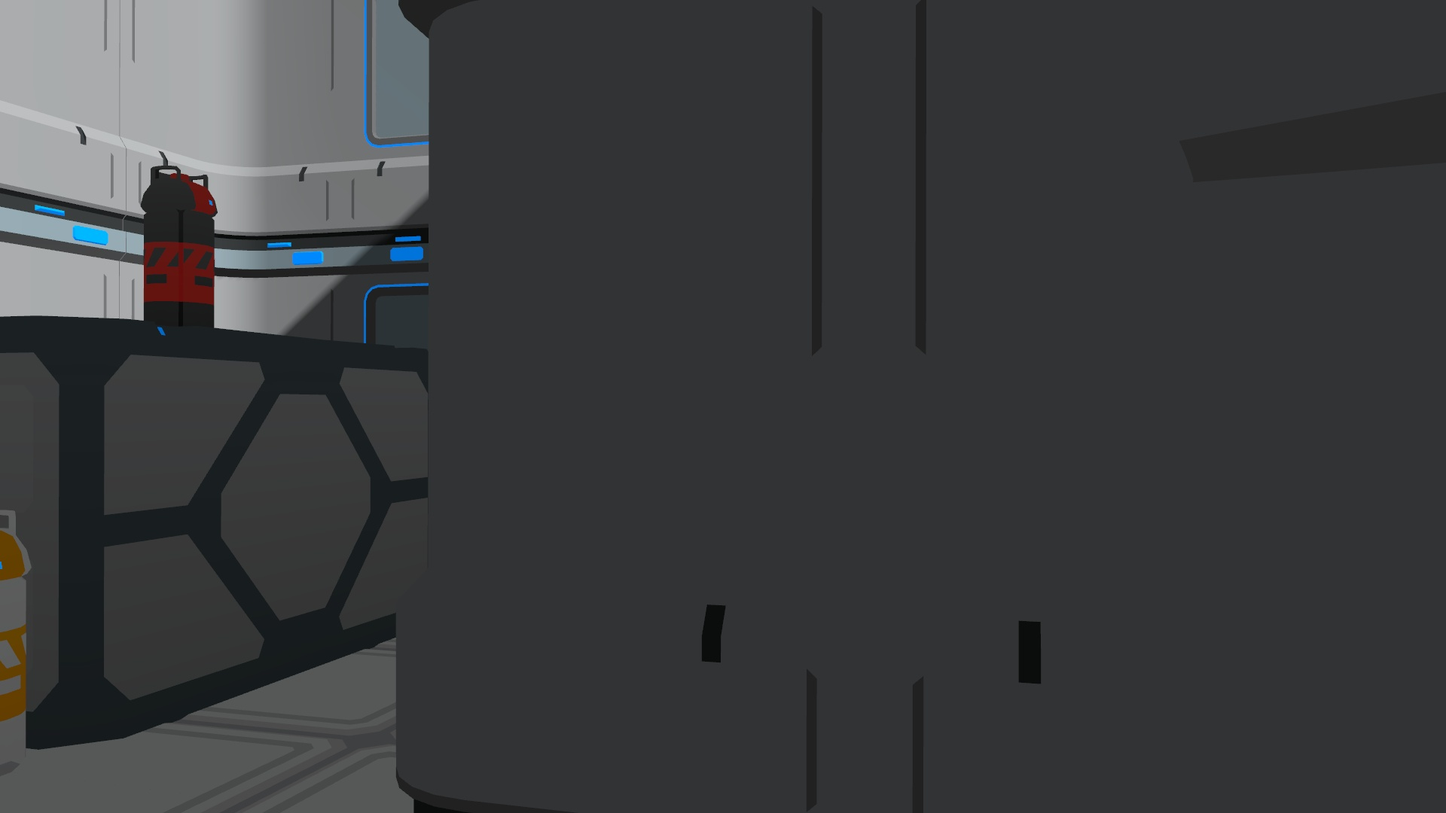red_barrel: (136, 154, 221, 331)
